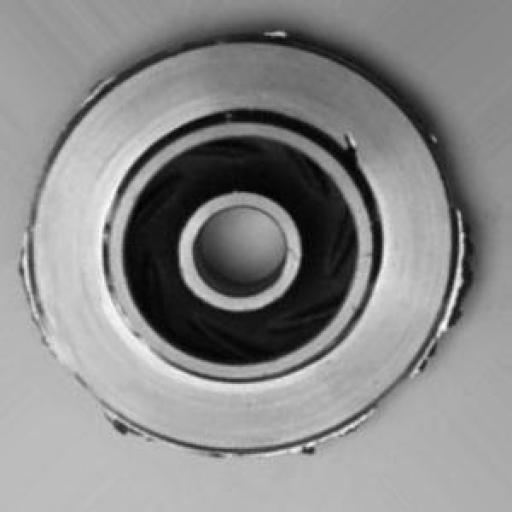defect: (24, 27, 480, 472)
